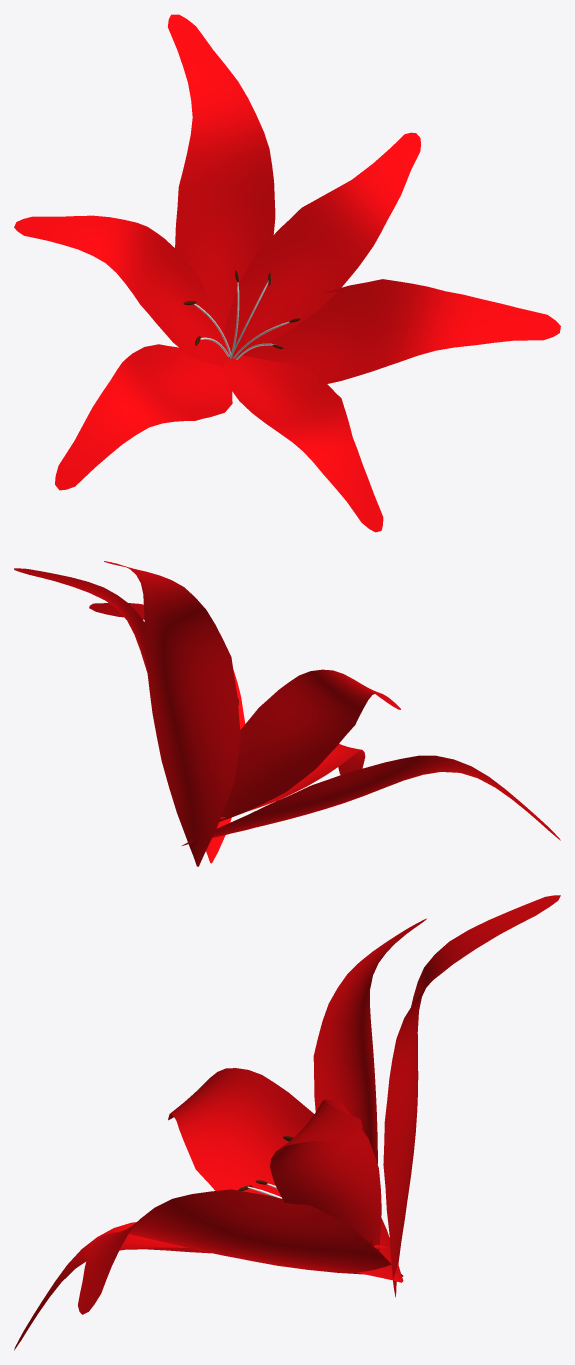
Rendered from flower_penalty.glb.
The picture shows the model from 3 angles, top to bottom: view 1: azimuth 30°, elevation 25°; view 2: azimuth 150°, elevation 25°; view 3: azimuth 270°, elevation 25°; orthographic projection. The views are drawn at different scales.
Visible parts, largest first — view 1: petals 1, pistils 3; view 2: petals 1; view 3: petals 1.
Part boxes in pixels (x1,y1,x2,y2): petals 1: (14,14,560,532); pistils 3: (183,270,300,359); petals 1: (14,561,560,866); petals 1: (14,895,560,1350).
Size of the model in its own units: 2.27 by 1.66 by 1.79.
